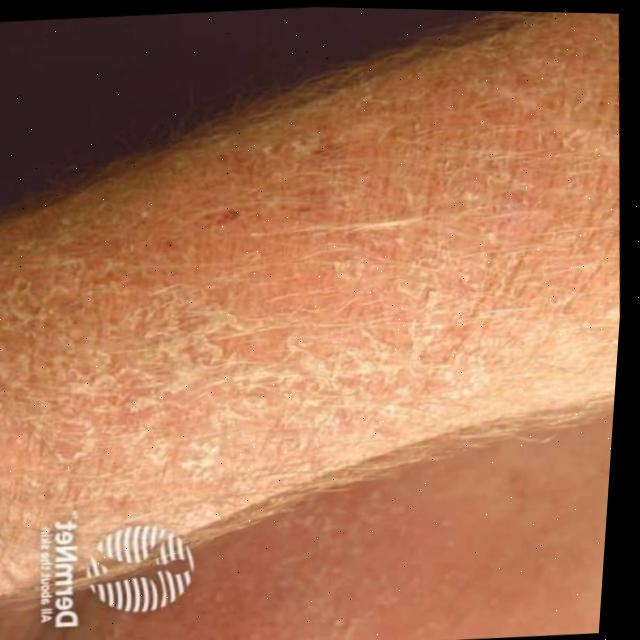Eczema: (15, 72, 635, 528)
